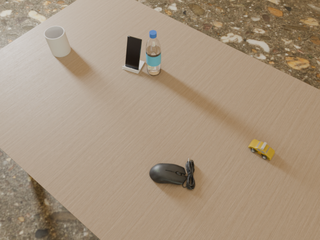bottle: (146, 30, 161, 75)
cup: (44, 26, 71, 57)
mouse: (150, 158, 195, 190)
phone: (125, 36, 142, 70)
toy_car: (248, 139, 275, 160)
